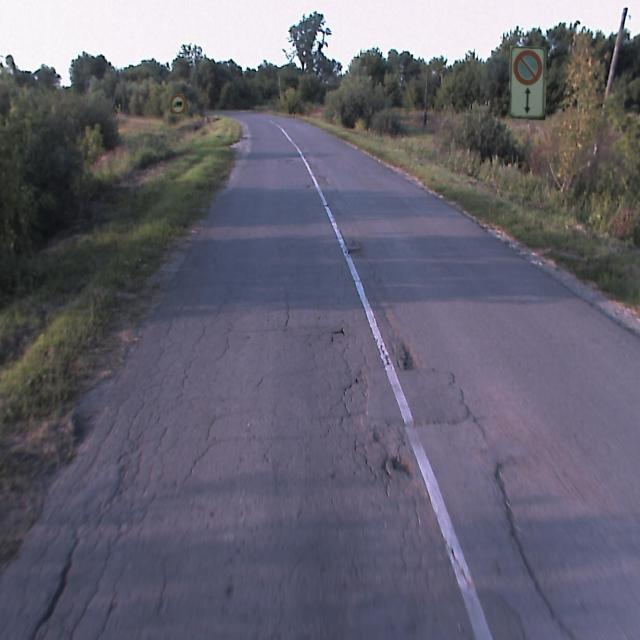road: (0, 110, 639, 639)
